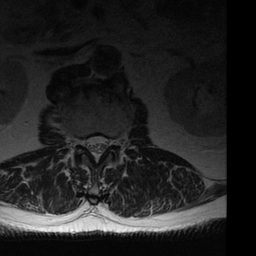CCS_normal: (93, 127, 100, 168)
LFS_stenosis: (109, 130, 117, 152)
LLS_normal: (101, 130, 109, 156)
RFS_stenosis: (76, 131, 85, 152)
RLS_normal: (84, 131, 93, 156)
